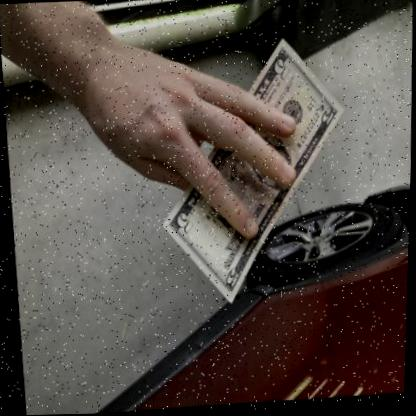dollar_front: (158, 39, 342, 306)
